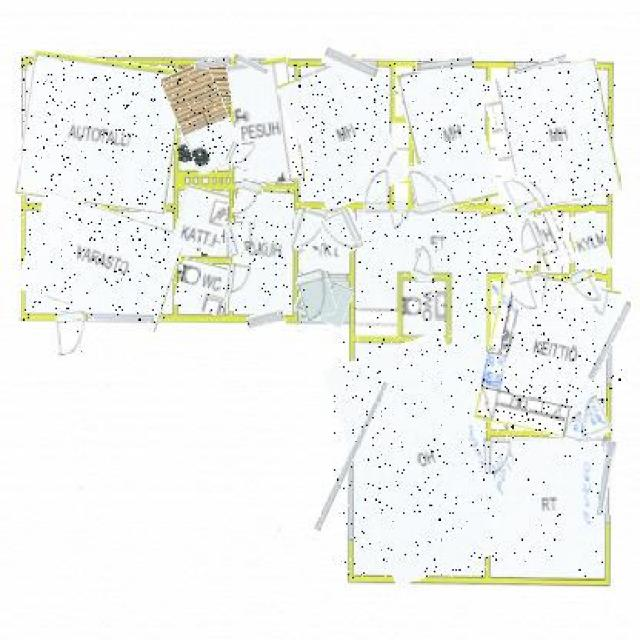door: (323, 210, 363, 256), (298, 270, 336, 318), (411, 165, 440, 217), (511, 270, 540, 322), (578, 392, 610, 438), (363, 166, 389, 219), (292, 208, 325, 249), (506, 174, 537, 214), (572, 271, 602, 311), (57, 312, 85, 354), (236, 182, 262, 218), (485, 440, 512, 474), (228, 223, 257, 254), (517, 222, 543, 252), (226, 143, 257, 168), (228, 263, 252, 295), (414, 244, 435, 278), (392, 212, 406, 230)
window: (331, 378, 371, 536), (596, 298, 622, 382), (323, 52, 379, 78), (600, 440, 615, 515), (246, 311, 286, 331), (416, 58, 472, 72), (86, 312, 154, 323), (514, 59, 568, 70), (232, 57, 270, 72), (194, 57, 229, 68)
zone: (340, 338, 498, 578), (20, 56, 180, 210), (481, 274, 614, 437), (22, 200, 180, 323), (488, 65, 615, 209), (357, 209, 488, 346), (289, 60, 397, 206), (494, 435, 604, 577), (403, 62, 491, 209), (231, 60, 300, 186), (231, 188, 292, 314), (171, 63, 238, 174), (176, 186, 227, 254), (483, 204, 535, 270), (297, 209, 349, 271), (175, 260, 231, 314), (297, 276, 352, 324), (571, 212, 609, 274), (532, 211, 572, 269)
